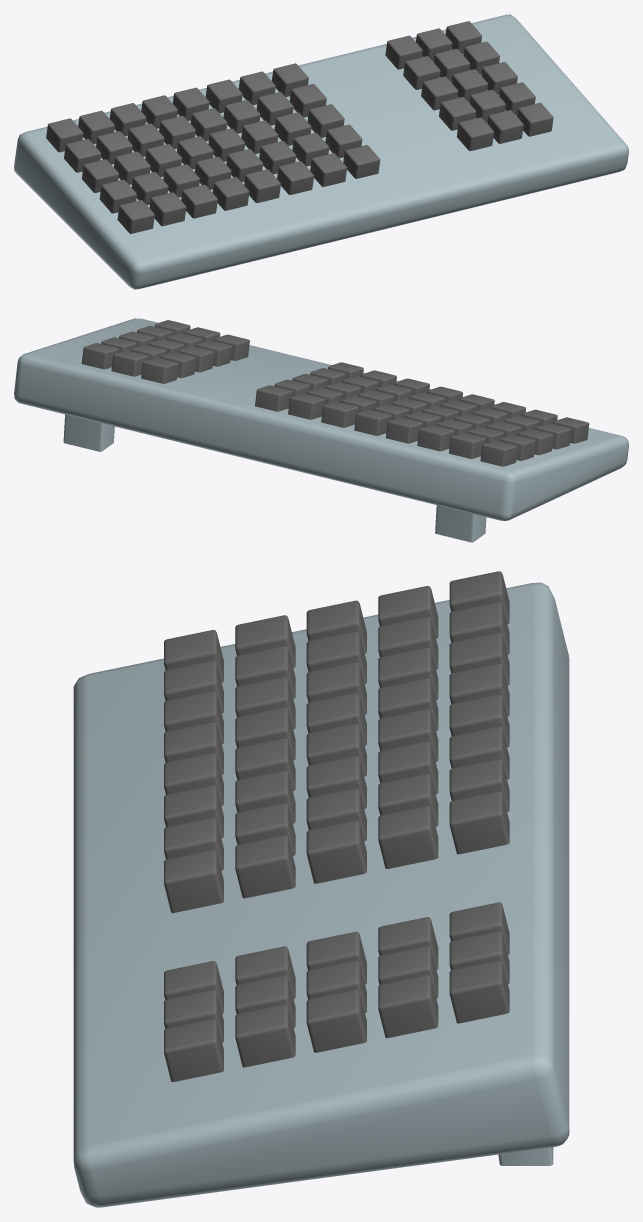
Rendered from Keybord.FBX.
3 renders of one model, top to bottom at view 1: azimuth 30°, elevation 25°; view 2: azimuth 150°, elevation 25°; view 3: azimuth 270°, elevation 25°, orthographic. The views are drawn at different scales.
Parts seen in each view (by area): view 1: Keybord; view 2: Keybord; view 3: Keybord.
Part boxes in pixels (x1,y1,x2,y2): Keybord: (14,14,628,289); Keybord: (14,318,628,542); Keybord: (73,571,569,1207).
Bounding box in the file's own units: 10.85 × 1.84 × 4.68.
